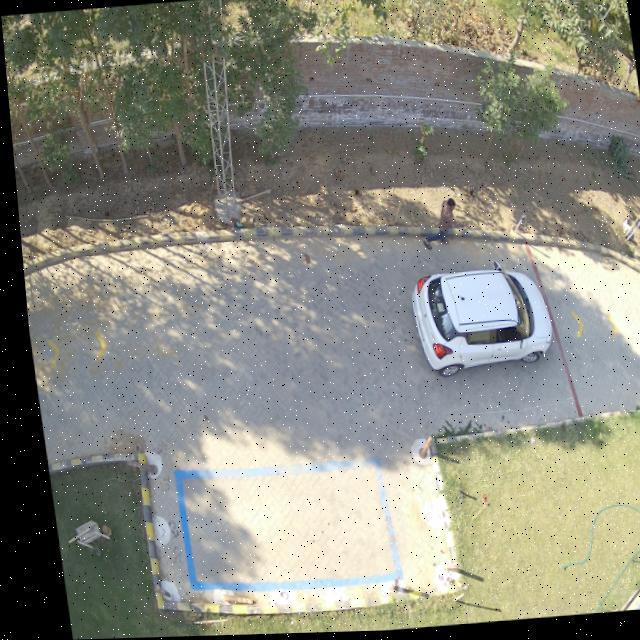car: (406, 264, 547, 379)
